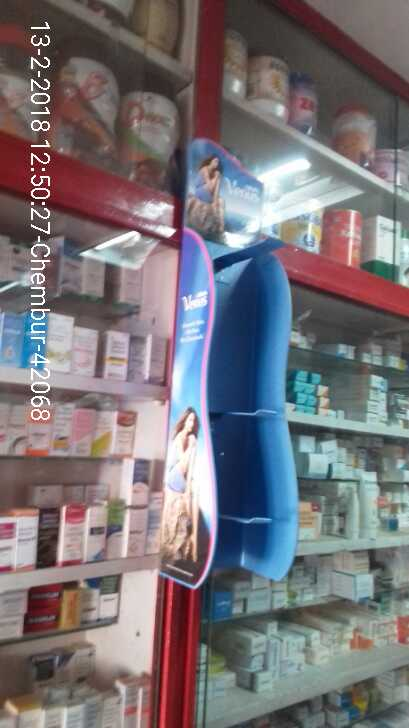reject: (77, 255, 217, 396)
